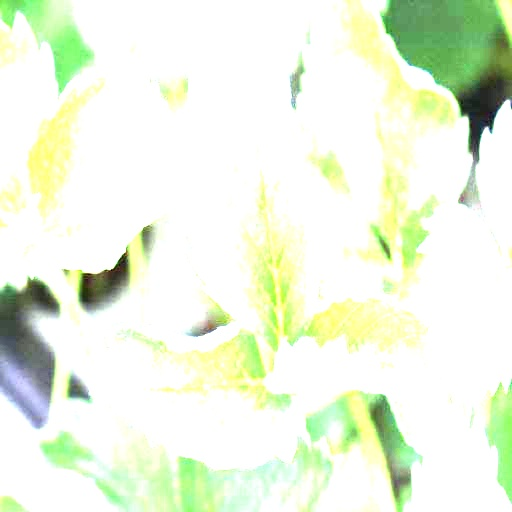Powdery Mildew Leaf: (173, 17, 322, 351), (295, 0, 470, 249), (90, 319, 308, 470), (272, 284, 448, 423)
